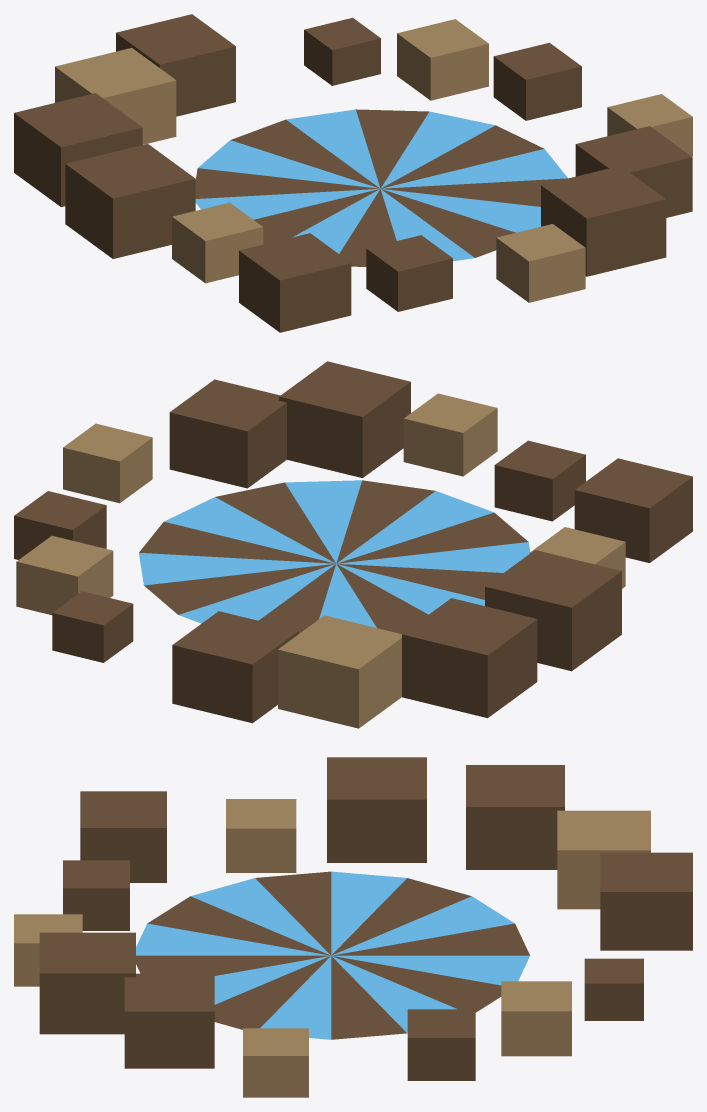
File: grave_rise.glb
The picture shows the model from 3 angles, top to bottom: view 1: azimuth 30°, elevation 25°; view 2: azimuth 150°, elevation 25°; view 3: azimuth 270°, elevation 25°; orthographic projection. The views are drawn at different scales.
Parts seen in each view (by area): view 1: grave_rise; view 2: grave_rise; view 3: grave_rise.
Boxes of the visible parts, x1=… form: grave_rise: x1=14, y1=14, x2=692, y2=332; grave_rise: x1=14, y1=361, x2=692, y2=728; grave_rise: x1=14, y1=757, x2=692, y2=1097.
Size of the model in its own units: 1.81 by 0.1936 by 1.88.
1 material, 1 textured.
